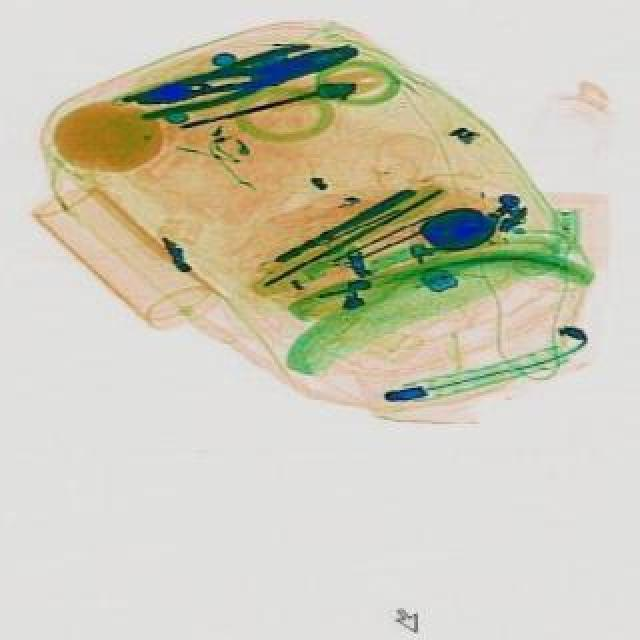wrench: (138, 34, 368, 128), (138, 40, 322, 120)
